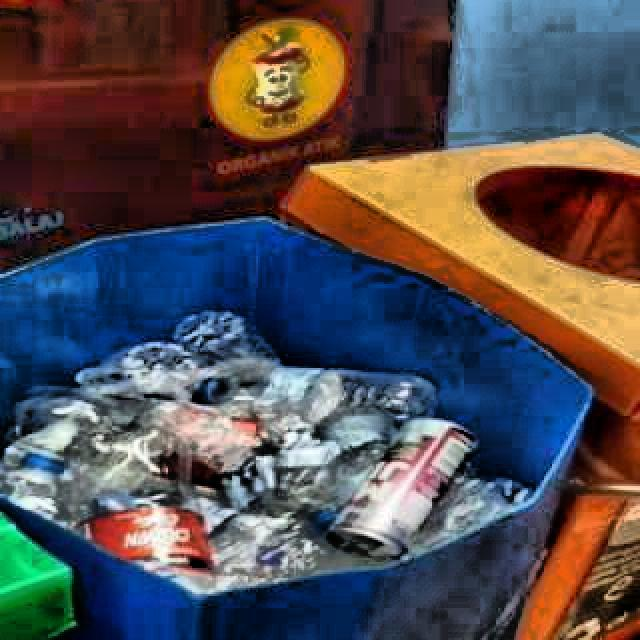metal: (330, 420, 479, 557)
